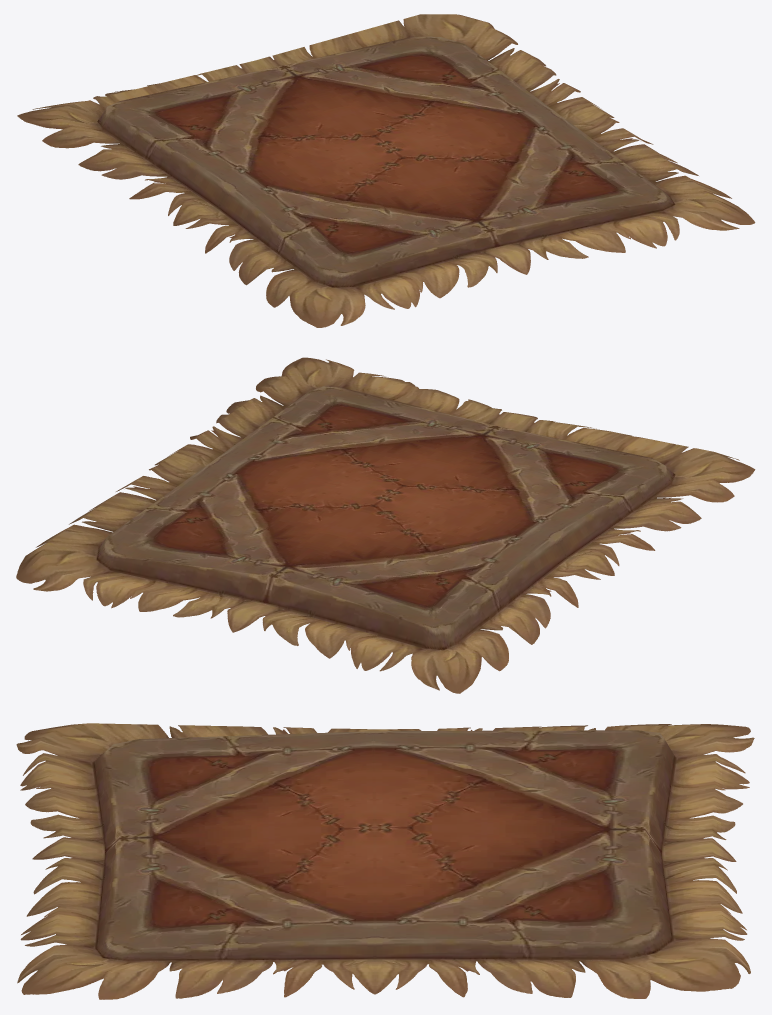
3 views of the same model, one above another, from view 1: azimuth 30°, elevation 25°; view 2: azimuth 150°, elevation 25°; view 3: azimuth 270°, elevation 25° (orthographic). The views are drawn at different scales.
Size of the model in its own units: 2.38 by 0.1322 by 2.69.
1 material, 1 textured.
